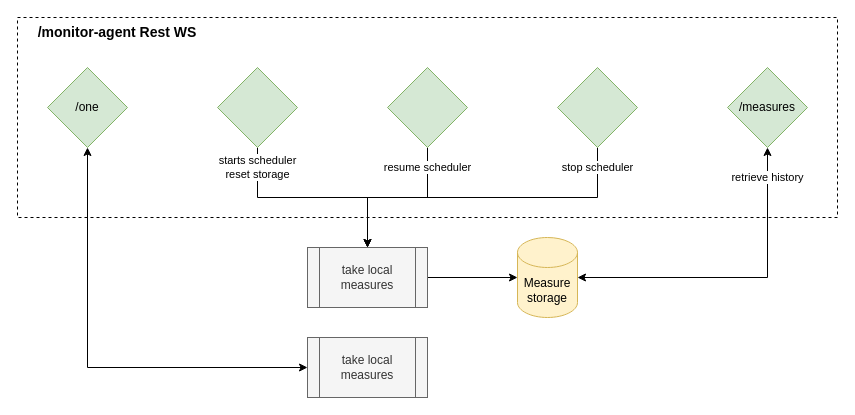
Image size: 855x415. Some labels were removed from this diagram. Here are the shapes that lost their labels. From the top down, the centre of each, then its label:
pixel 257 107: /start
pixel 427 107: /resume
pixel 597 107: /stop
